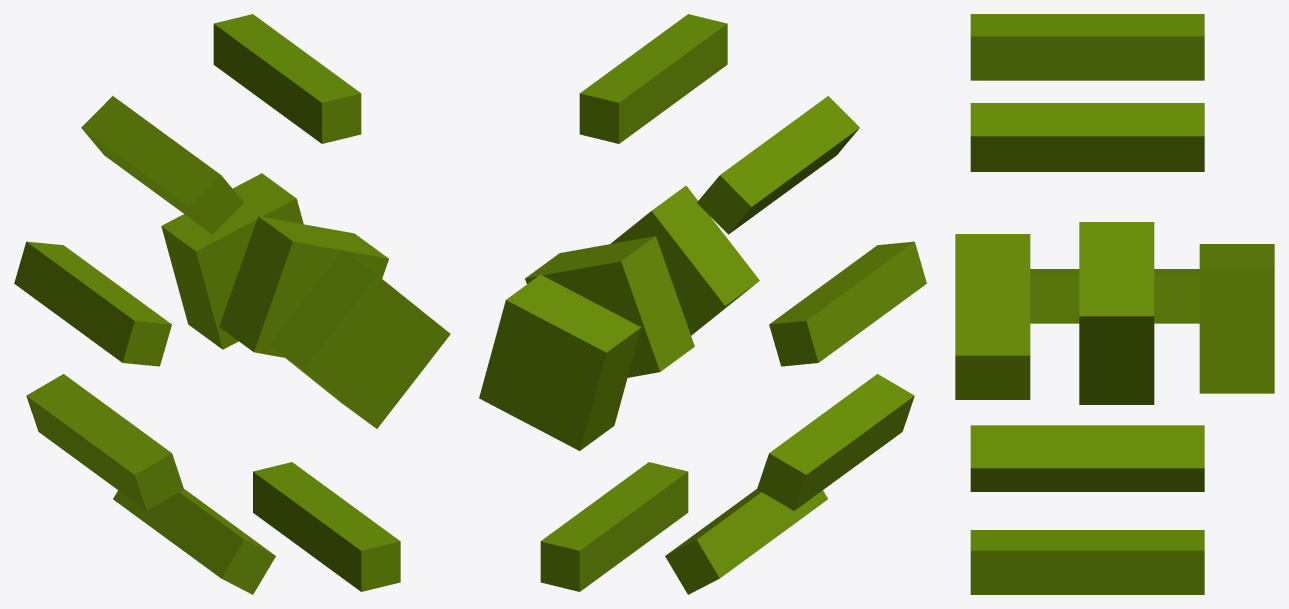
File: temple.obj
3 views of the same model, side by side, from view 1: azimuth 30°, elevation 25°; view 2: azimuth 150°, elevation 25°; view 3: azimuth 270°, elevation 25° (orthographic). The views are drawn at different scales.
Parts seen in each view (by area): view 1: Mesh7 Model, Mesh8 Model, Mesh6 Model, Mesh1 Model, Mesh3 Model, Mesh4 Model, Mesh9 Model, Mesh5 Model, Mesh2 Model; view 2: Mesh9 Model, Mesh8 Model, Mesh1 Model, Mesh6 Model, Mesh3 Model, Mesh4 Model, Mesh7 Model, Mesh5 Model, Mesh2 Model; view 3: Mesh4 Model, Mesh2 Model, Mesh6 Model, Mesh1 Model, Mesh8 Model, Mesh7 Model, Mesh9 Model, Mesh3 Model, Mesh5 Model.
Boxes of the visible parts, bbox=[...] form: Mesh7 Model: bbox=[269, 250, 450, 428]; Mesh8 Model: bbox=[219, 216, 388, 357]; Mesh6 Model: bbox=[213, 14, 361, 143]; Mesh1 Model: bbox=[253, 462, 400, 591]; Mesh3 Model: bbox=[26, 374, 183, 510]; Mesh4 Model: bbox=[14, 241, 171, 366]; Mesh9 Model: bbox=[161, 173, 303, 349]; Mesh5 Model: bbox=[81, 96, 243, 234]; Mesh2 Model: bbox=[113, 489, 275, 594]; Mesh9 Model: bbox=[479, 274, 641, 450]; Mesh8 Model: bbox=[525, 236, 694, 377]; Mesh1 Model: bbox=[540, 462, 688, 591]; Mesh6 Model: bbox=[579, 14, 727, 143]; Mesh3 Model: bbox=[757, 374, 914, 510]; Mesh4 Model: bbox=[769, 241, 926, 366]; Mesh7 Model: bbox=[610, 185, 759, 335]; Mesh5 Model: bbox=[697, 96, 859, 234]; Mesh2 Model: bbox=[665, 489, 827, 594]; Mesh4 Model: bbox=[970, 103, 1204, 171]; Mesh2 Model: bbox=[970, 425, 1204, 491]; Mesh6 Model: bbox=[970, 15, 1204, 80]; Mesh1 Model: bbox=[970, 530, 1204, 594]; Mesh8 Model: bbox=[1079, 222, 1154, 404]; Mesh7 Model: bbox=[955, 234, 1030, 399]; Mesh9 Model: bbox=[1199, 244, 1274, 393]; Mesh3 Model: bbox=[1030, 269, 1199, 323]; Mesh5 Model: bbox=[970, 14, 1204, 15].
Bounding box in the file's own units: 4.84 × 7.18 × 3.86.
